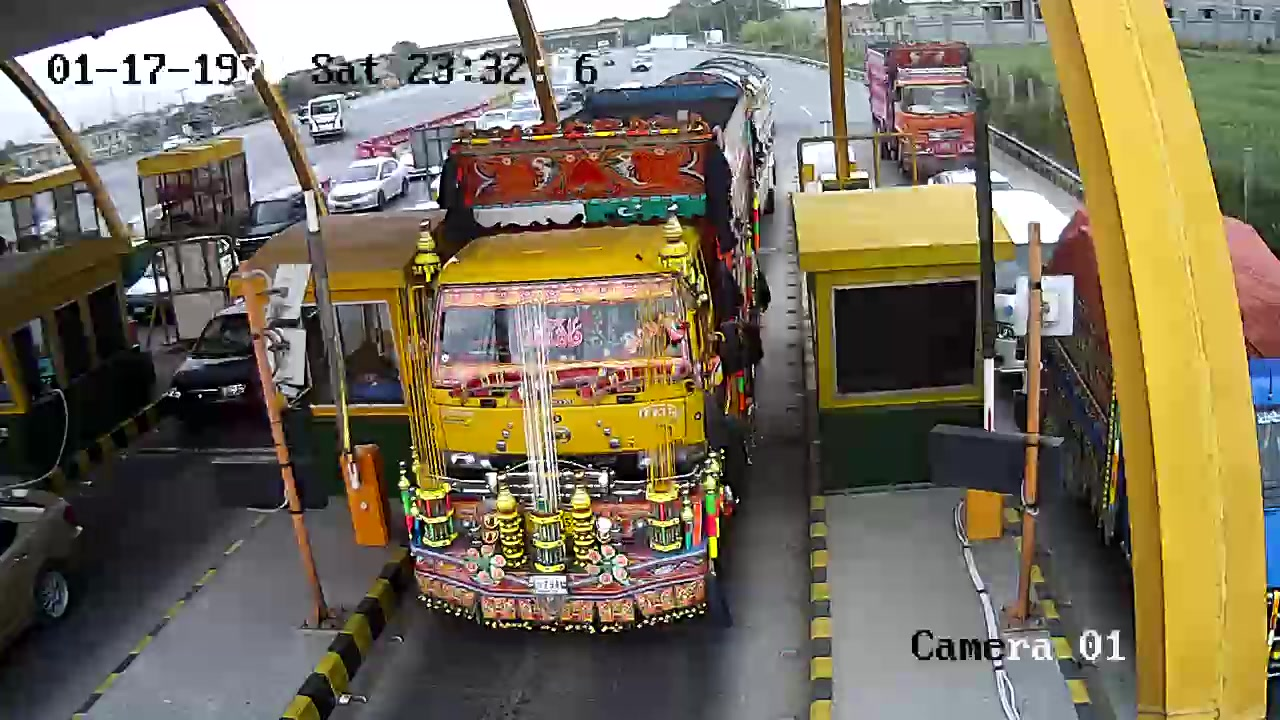F5: (397, 57, 768, 639)
